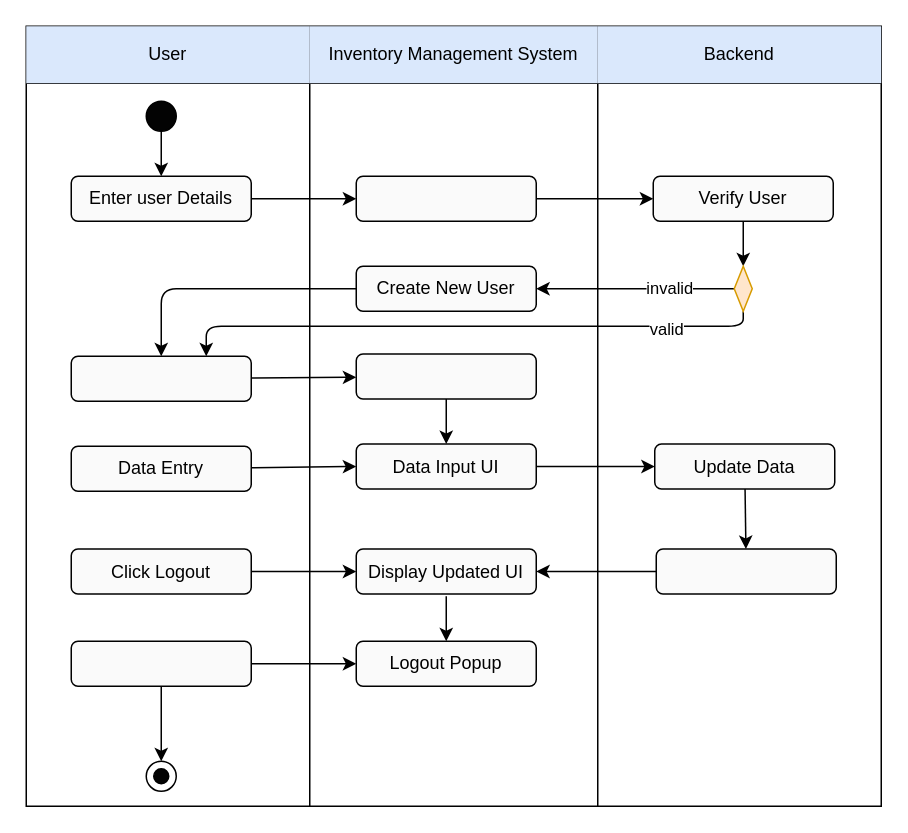
Image size: 908x833. Some labels were removed from this diagram. Each missing label, with the centre of its shape:
"Click Okay" goes at (x=160, y=663).
"Click Options" goes at (x=160, y=378).
"Display App UI" goes at (x=445, y=375).
"Display Login Page" goes at (x=445, y=198).
"Respond to App" goes at (x=745, y=571).
